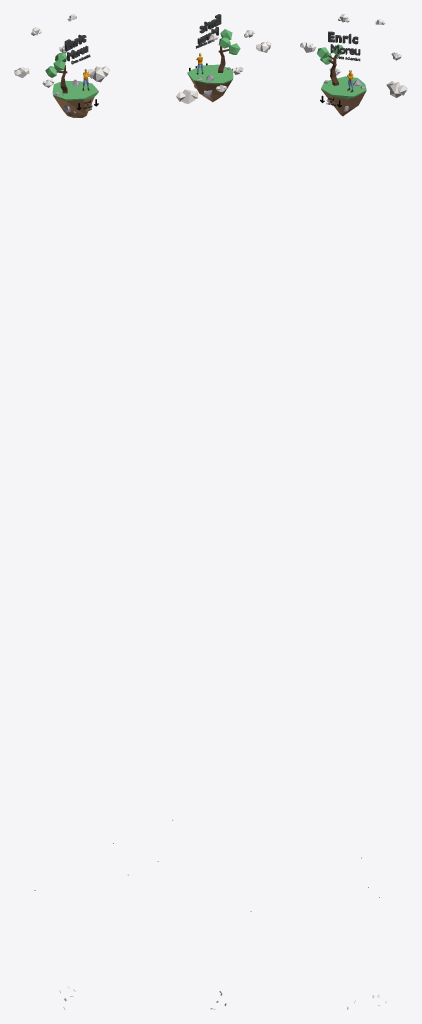
The picture shows the model from 3 angles, left to right: view 1: azimuth 30°, elevation 25°; view 2: azimuth 210°, elevation 25°; view 3: azimuth 330°, elevation 25°; orthographic projection.
Visible parts, largest first — view 1: Cylinder; view 2: Cylinder; view 3: Cylinder.
Part boxes in pixels (bbox=[...]): Cylinder: bbox=[52, 80, 98, 117]; Cylinder: bbox=[187, 64, 233, 102]; Cylinder: bbox=[321, 76, 366, 116].
Size of the model in its own units: 8.84 by 81.84 by 7.
